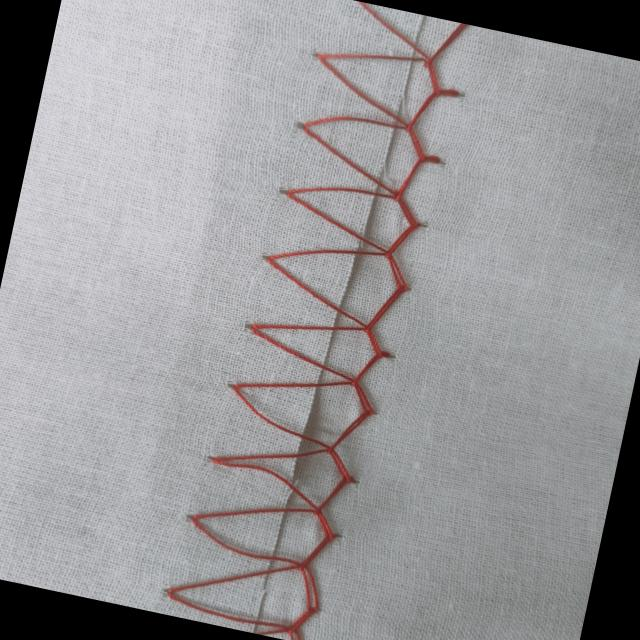gray stitch: (155, 0, 476, 640)
